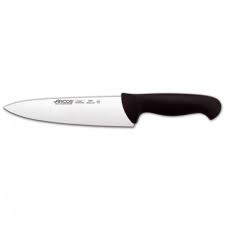kuchillu: (1, 90, 222, 132)
